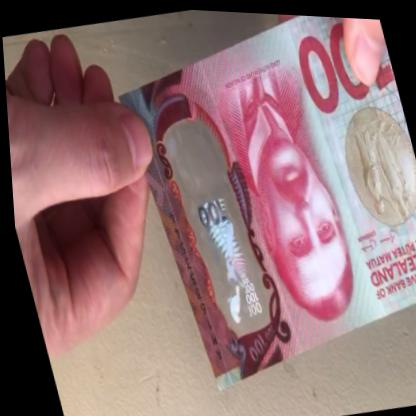100F: (168, 133, 267, 331)
